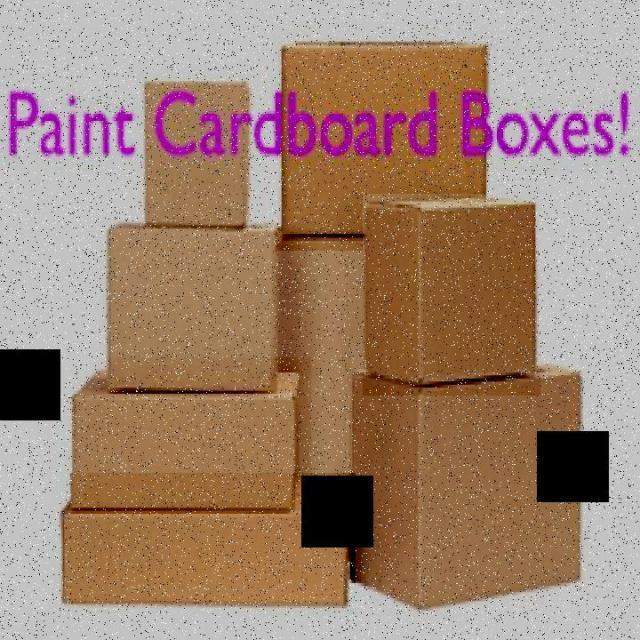box: (351, 343, 595, 628), (276, 28, 510, 250), (47, 473, 357, 633), (260, 202, 400, 520), (63, 358, 311, 518), (362, 194, 540, 396), (96, 214, 287, 394), (140, 68, 250, 242)
